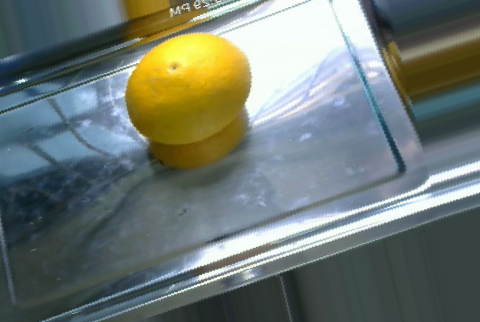Orange: (124, 32, 251, 145)
